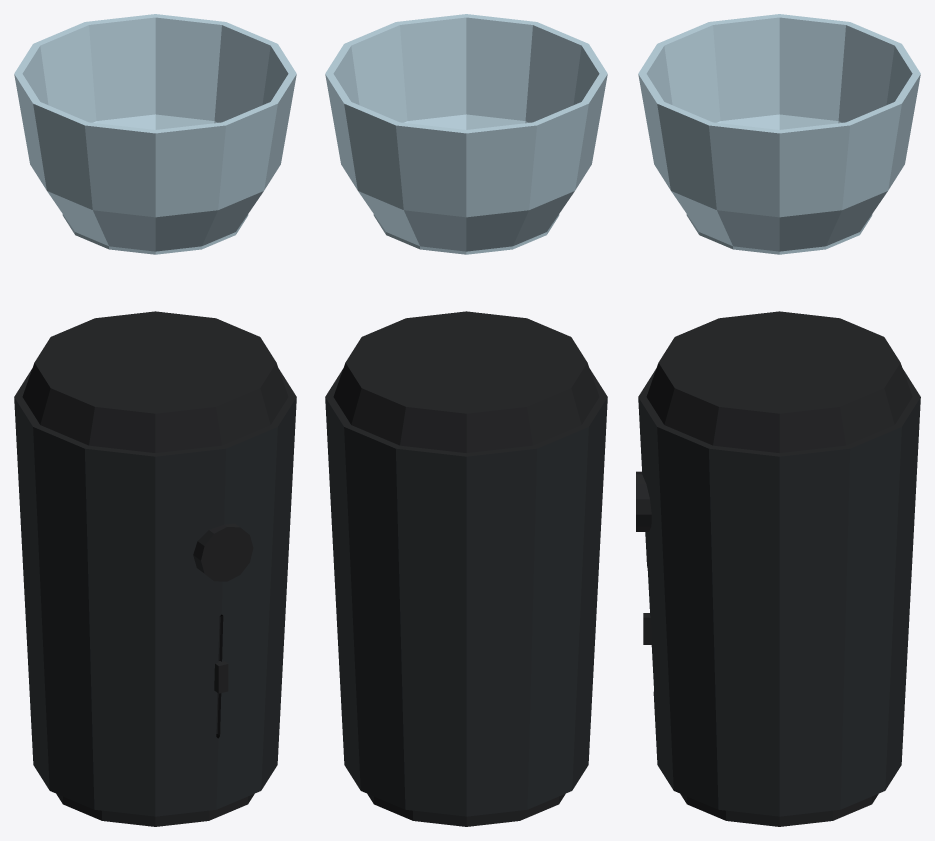
File: coffeegrinders_01_E.gltf
The picture shows the model from 3 angles, left to right: view 1: azimuth 30°, elevation 25°; view 2: azimuth 150°, elevation 25°; view 3: azimuth 270°, elevation 25°; orthographic projection.
Parts seen in each view (by area): view 1: coffeegrinders_01_E, Glassforcoffeegrinders_01_E, Switchforcoffeegrinders_02_E; view 2: coffeegrinders_01_E, Glassforcoffeegrinders_01_E; view 3: coffeegrinders_01_E, Glassforcoffeegrinders_01_E, Switchforcoffeegrinders_02_E.
Boxes of the visible parts, x1,y1,x2,y2 form: coffeegrinders_01_E: [14, 311, 296, 826]; Glassforcoffeegrinders_01_E: [14, 14, 296, 254]; Switchforcoffeegrinders_02_E: [193, 523, 253, 581]; coffeegrinders_01_E: [325, 311, 607, 826]; Glassforcoffeegrinders_01_E: [325, 14, 607, 254]; coffeegrinders_01_E: [638, 311, 920, 826]; Glassforcoffeegrinders_01_E: [638, 14, 920, 254]; Switchforcoffeegrinders_02_E: [636, 471, 651, 531].
Bounding box in the file's own units: 0.1444 × 0.3991 × 0.1455.
1 material, 1 textured.
